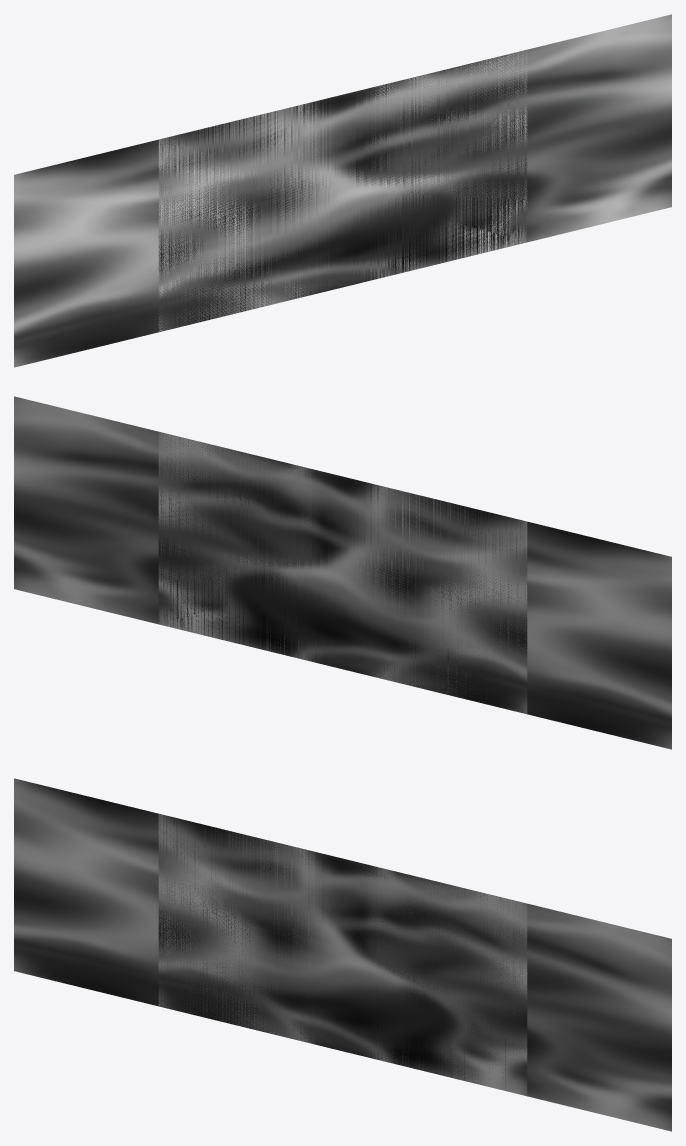
Rendered from ScoreComponent.glb.
3 renders of one model, top to bottom at view 1: azimuth 30°, elevation 25°; view 2: azimuth 150°, elevation 25°; view 3: azimuth 330°, elevation 25°, orthographic.
Visible parts, largest first — view 1: Perfect, Miss; view 2: Perfect, Miss; view 3: Miss, Perfect.
Part boxes in pixels (left/top/right/bottom): Perfect: left=14, top=14, right=671, bottom=367; Miss: left=158, top=50, right=527, bottom=331; Perfect: left=14, top=396, right=671, bottom=749; Miss: left=158, top=432, right=527, bottom=714; Miss: left=158, top=813, right=527, bottom=1096; Perfect: left=14, top=778, right=671, bottom=1131.
Bounding box in the file's own units: 500 × 140 × 5.55e-17.
Materials: 1 (1 with a texture image).
